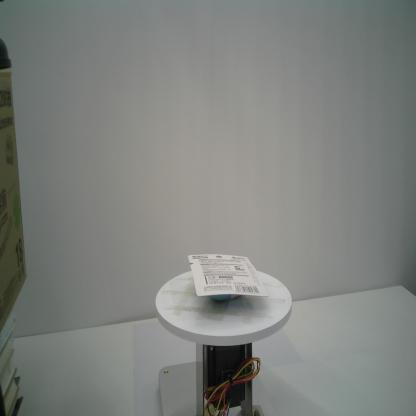Stationery: (188, 254, 269, 301)
